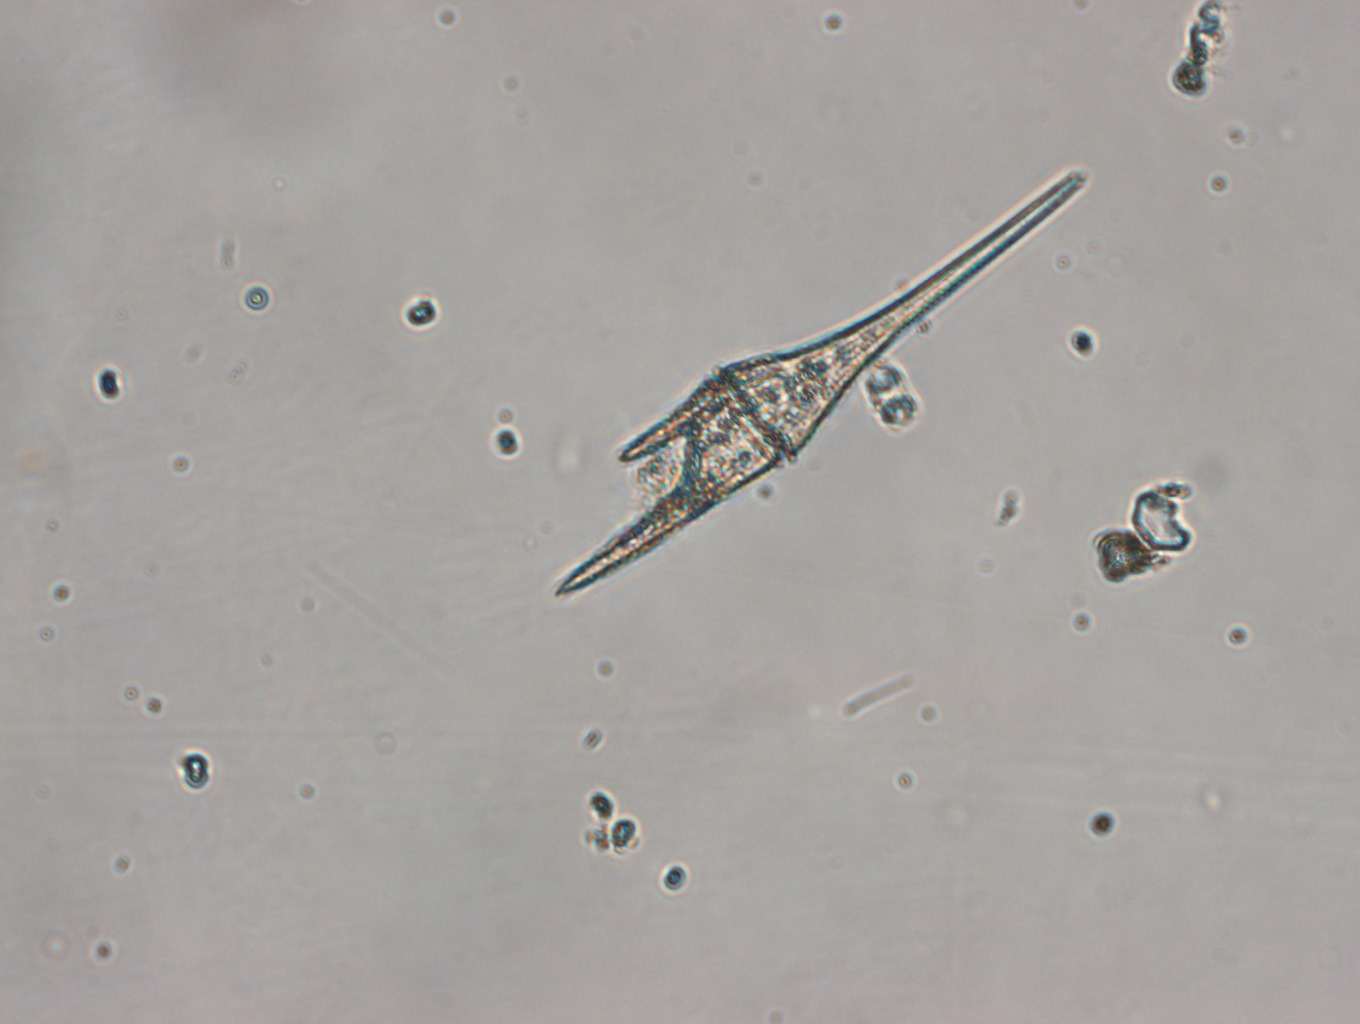ceratium furca: (552, 161, 1087, 603)
